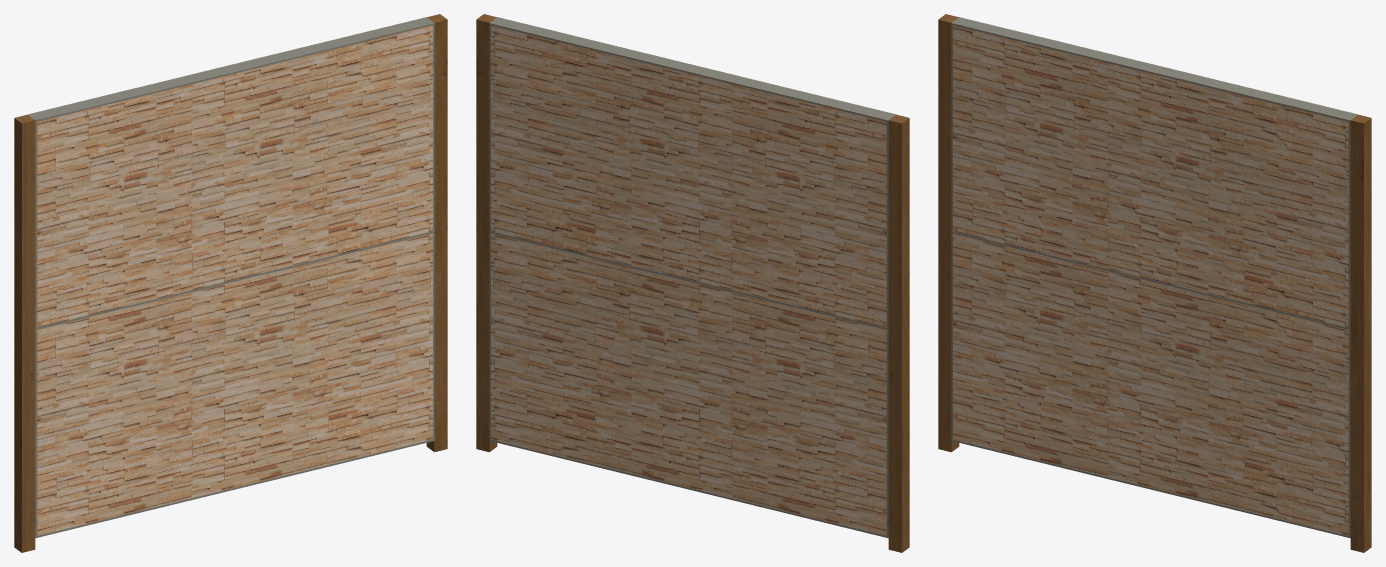
The model's file is ABF3-H1800_randomstone brown.fbx.
3 views of the same model, side by side, from view 1: azimuth 30°, elevation 25°; view 2: azimuth 150°, elevation 25°; view 3: azimuth 330°, elevation 25° (orthographic).
Parts seen in each view (by area): view 1: 1850-1920-60_randomstone brown; view 2: 1850-1920-60_randomstone brown; view 3: 1850-1920-60_randomstone brown.
Boxes of the visible parts, box(x1,y1,x2,y2) form: 1850-1920-60_randomstone brown: box(14, 14, 447, 552); 1850-1920-60_randomstone brown: box(476, 14, 909, 552); 1850-1920-60_randomstone brown: box(938, 14, 1371, 552).
Bounding box in the file's own units: 192 × 185 × 6.4.
5 materials, 4 textured.
